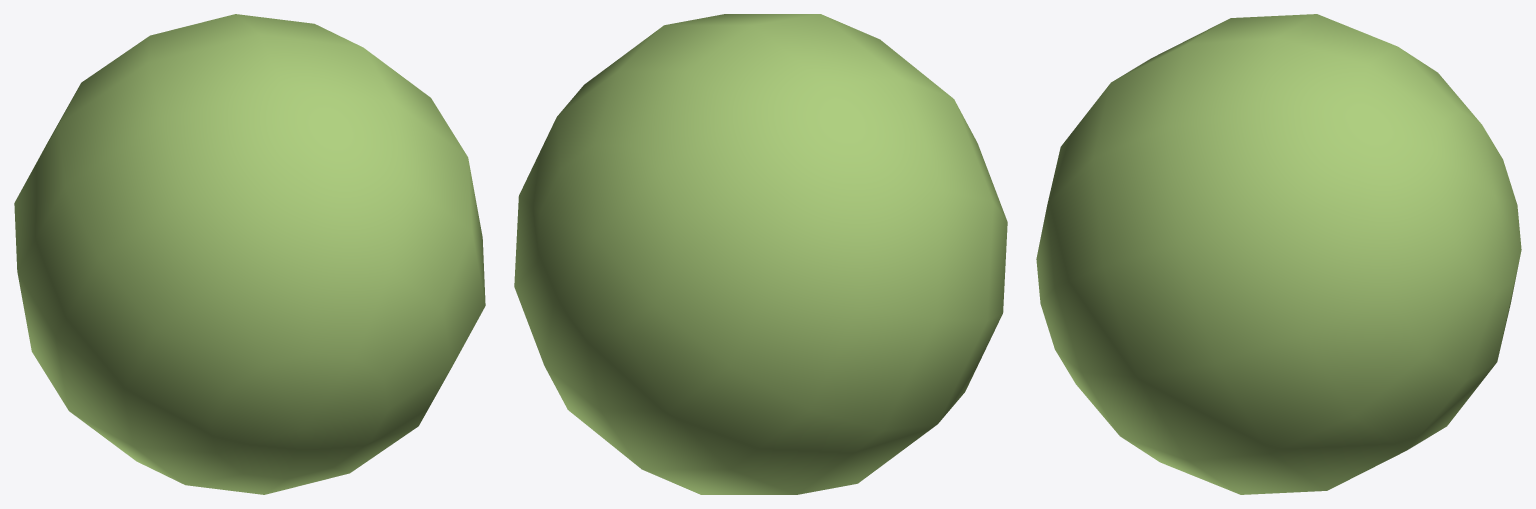
Rendered from node-of-arch-of-azygos-vein.glb.
The picture shows the model from 3 angles, left to right: view 1: azimuth 30°, elevation 25°; view 2: azimuth 150°, elevation 25°; view 3: azimuth 270°, elevation 25°; orthographic projection. The views are drawn at different scales.
Visible parts, largest first — view 1: Node of arch of azygos vein; view 2: Node of arch of azygos vein; view 3: Node of arch of azygos vein.
Boxes of the visible parts, bbox=[...] form: Node of arch of azygos vein: bbox=[14, 14, 485, 494]; Node of arch of azygos vein: bbox=[514, 14, 1007, 494]; Node of arch of azygos vein: bbox=[1036, 14, 1521, 494].
Size of the model in its own units: 0.00257 by 0.0026 by 0.00259.
